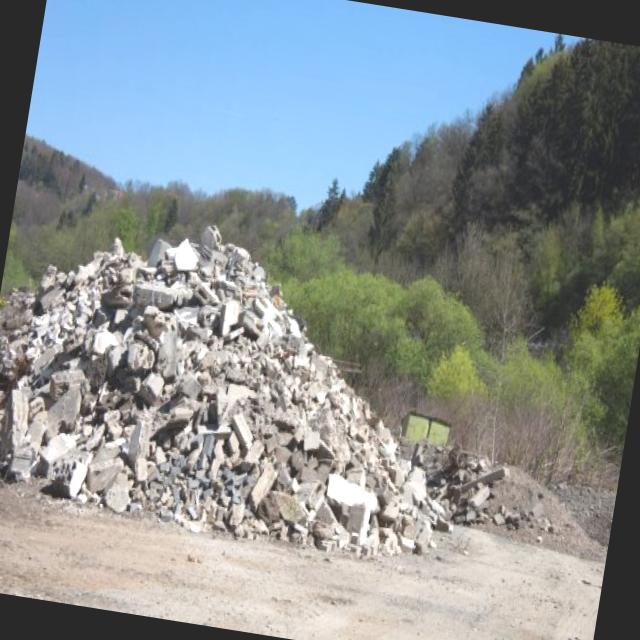garbage: (0, 191, 376, 582)
